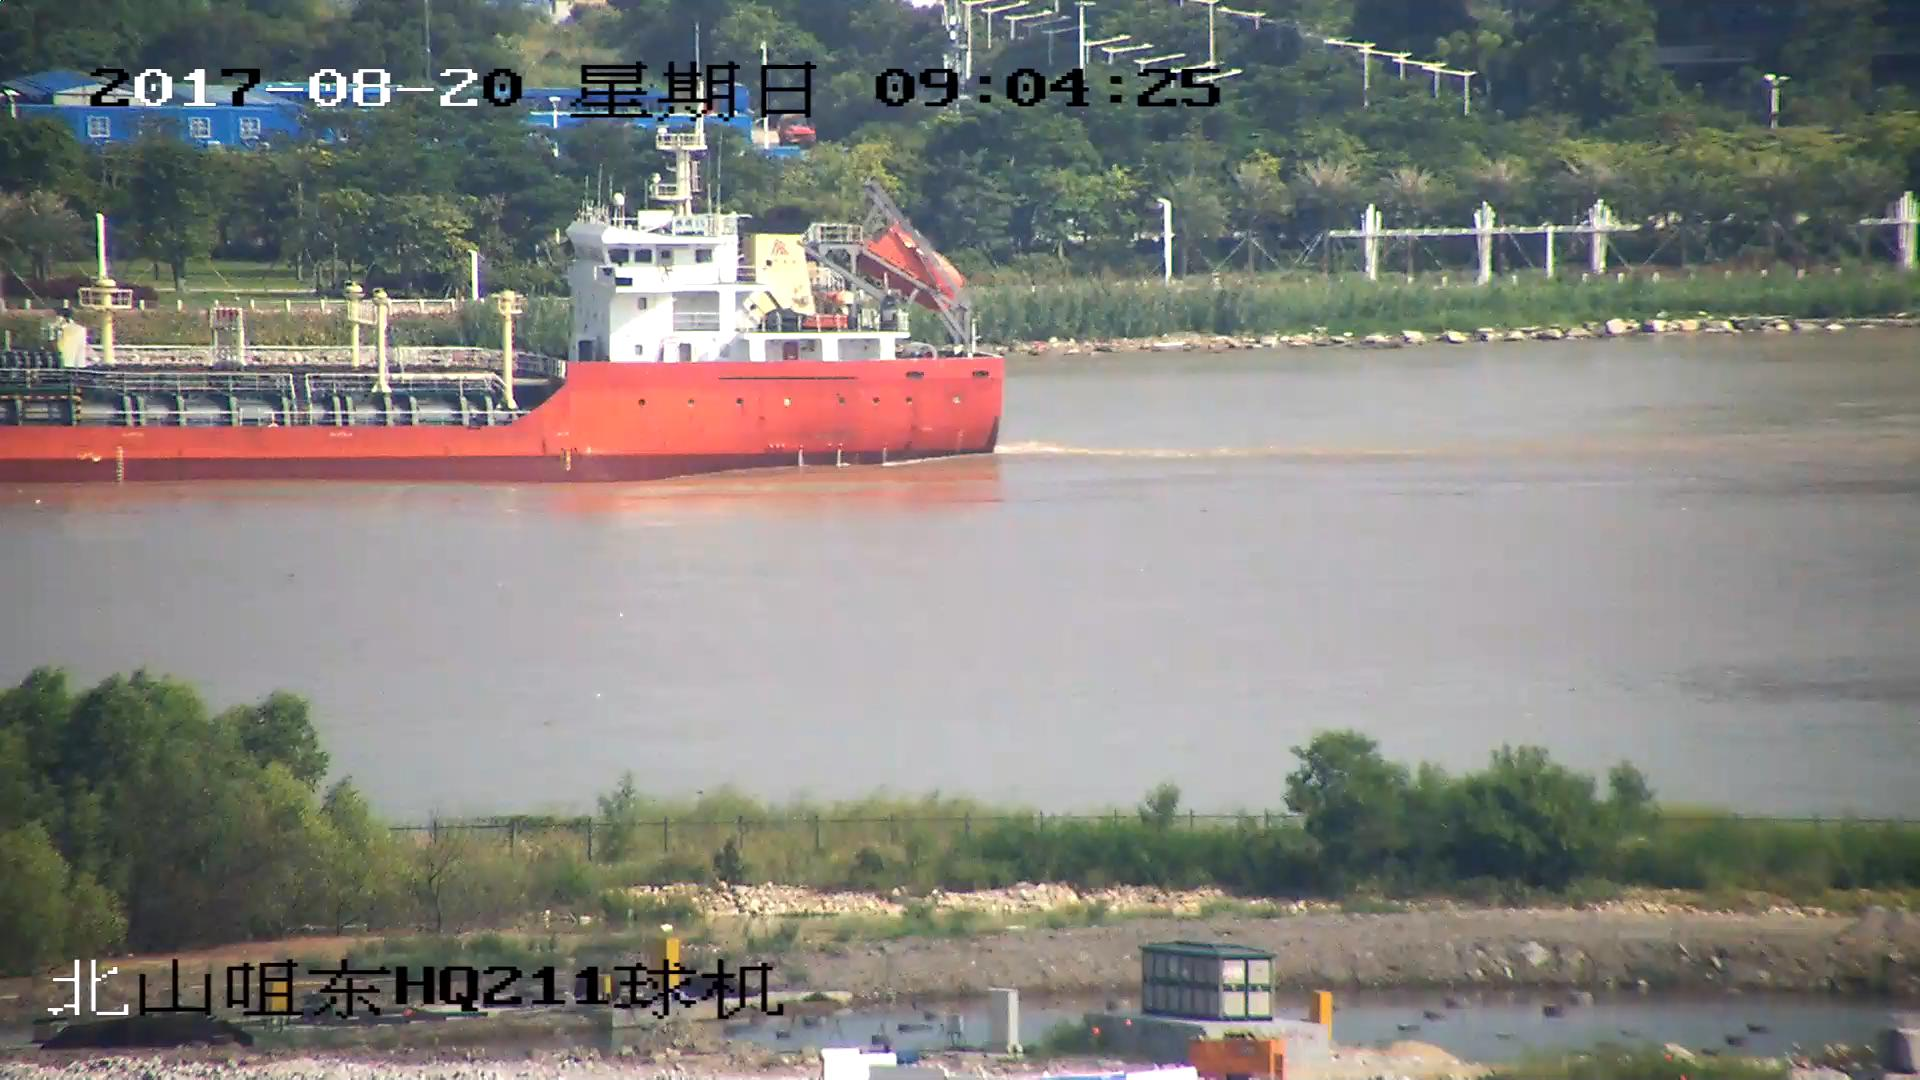general cargo ship: (1, 141, 1007, 478)
